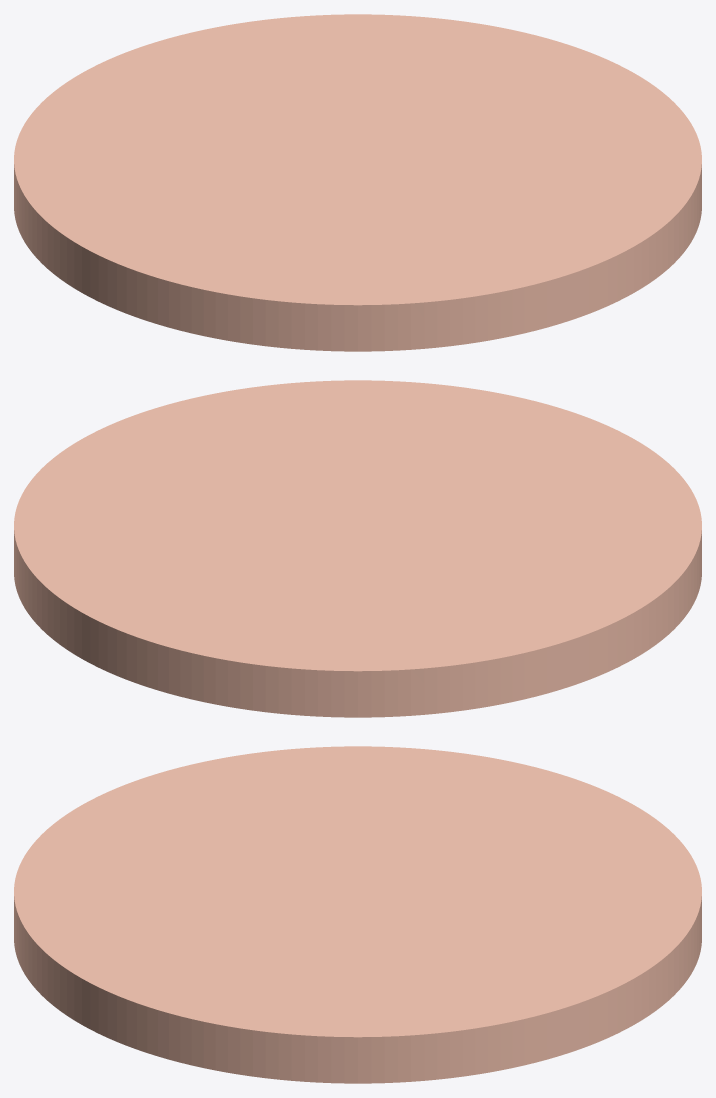
3 views of the same model, one above another, from view 1: azimuth 30°, elevation 25°; view 2: azimuth 150°, elevation 25°; view 3: azimuth 270°, elevation 25° (orthographic).
Parts seen in each view (by area): view 1: Cylinder.005; view 2: Cylinder.005; view 3: Cylinder.005.
Boxes of the visible parts, x1,y1,x2,y2 form: Cylinder.005: [14, 14, 701, 351]; Cylinder.005: [14, 380, 701, 717]; Cylinder.005: [14, 746, 701, 1083].
Bounding box in the file's own units: 1.86 × 0.1387 × 1.86.
